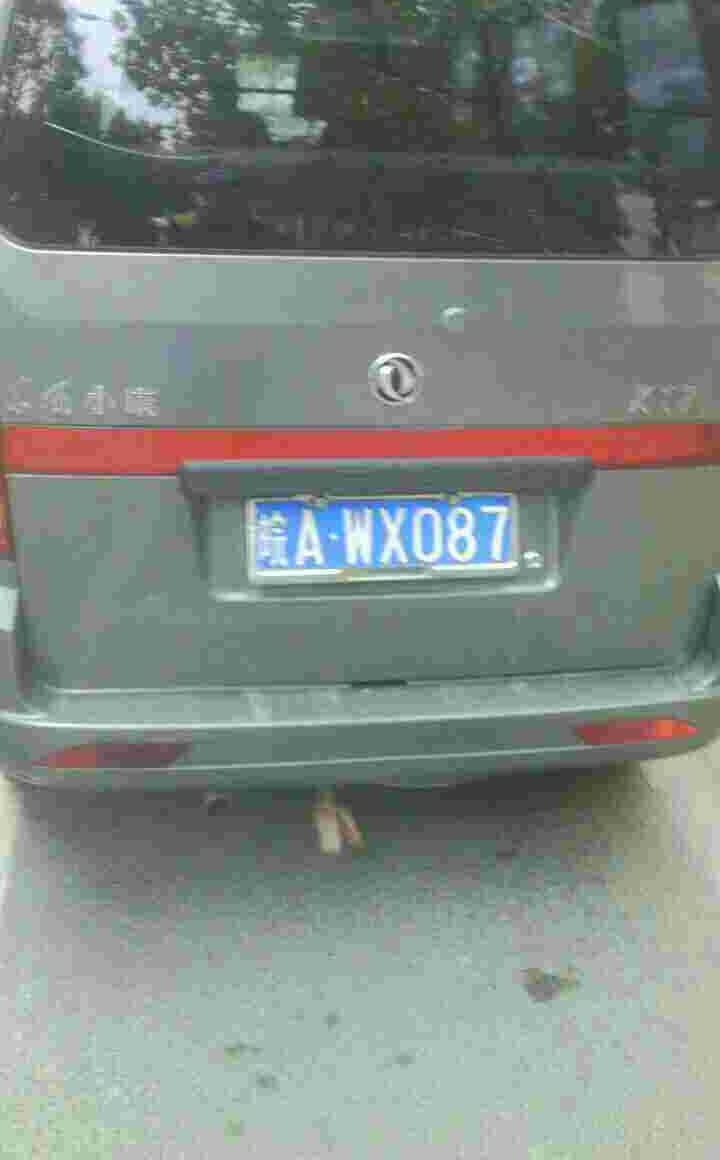plate: (254, 487, 524, 585)
